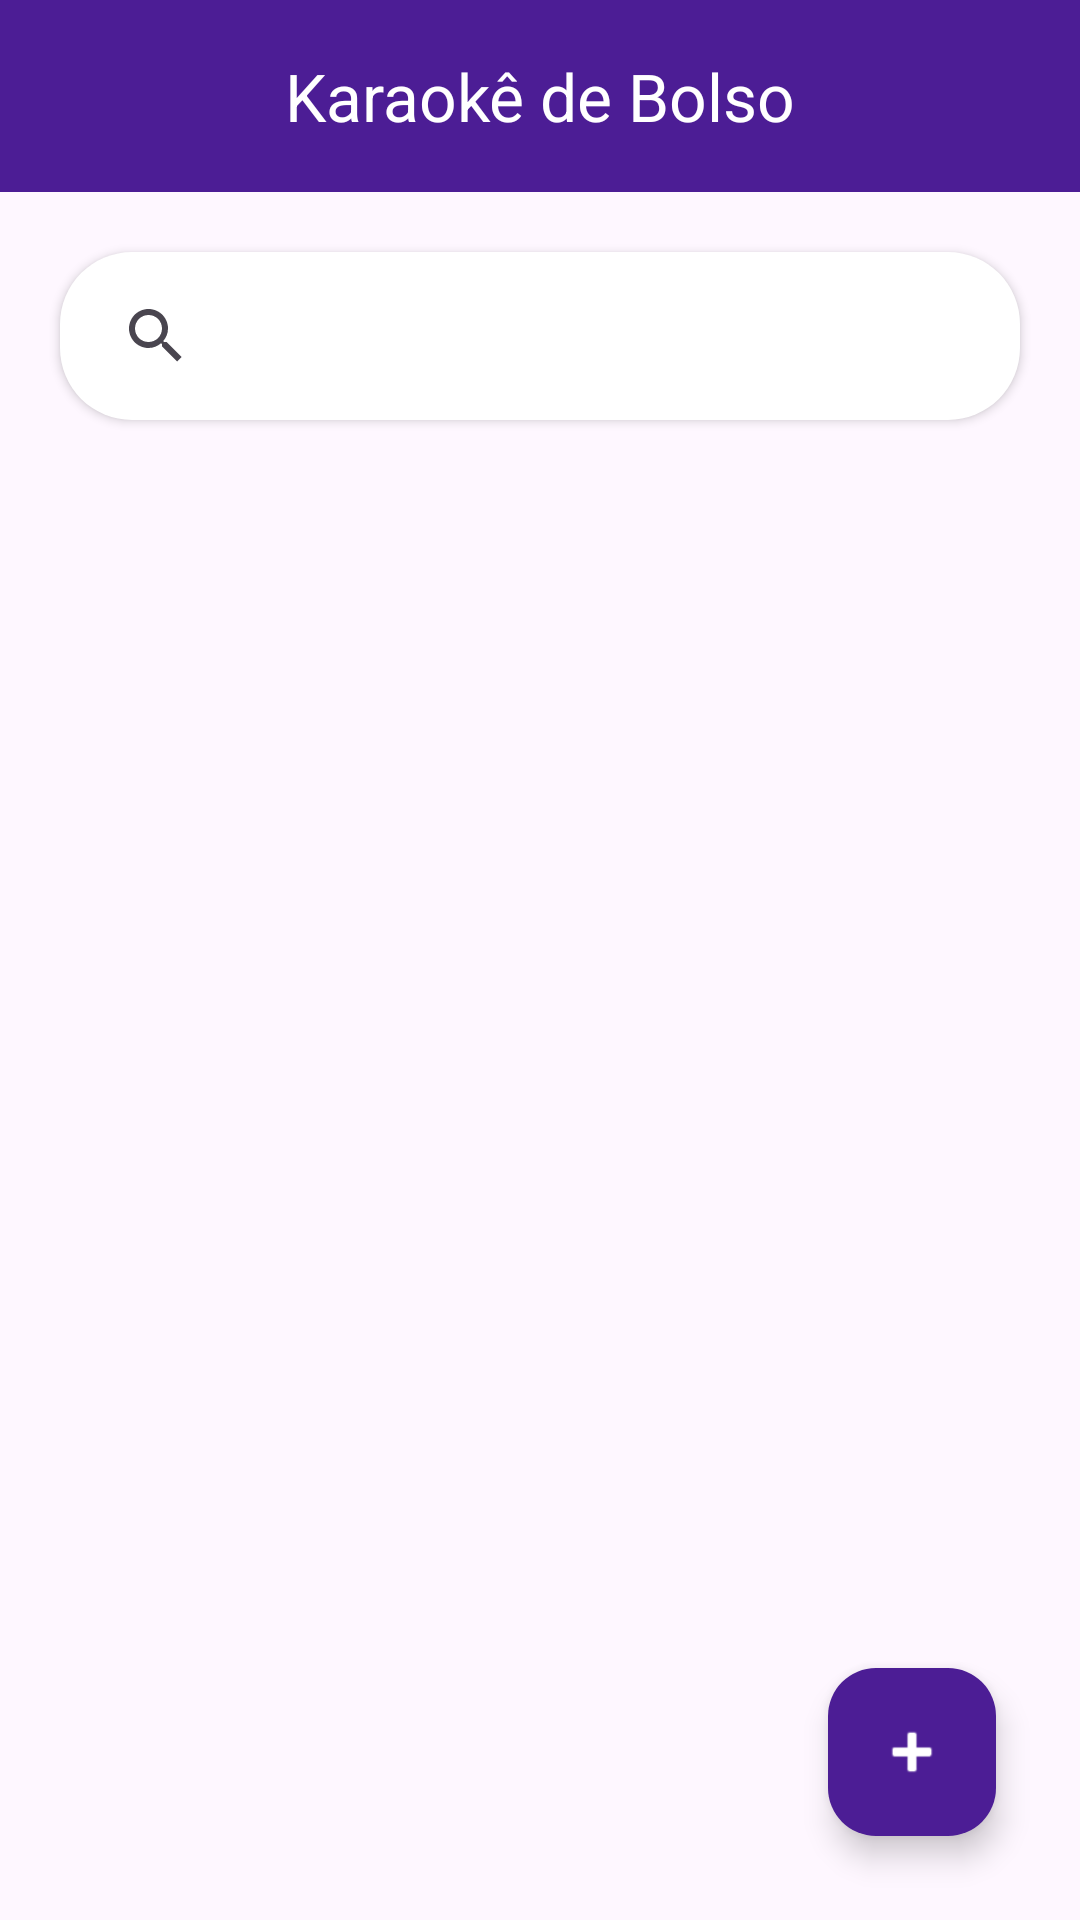

Named icons in this screenshot (1080 × 1920) and their bounding boxes, (x1, y1, x2, y2):
Adicionar música: (828, 1668, 996, 1836)
